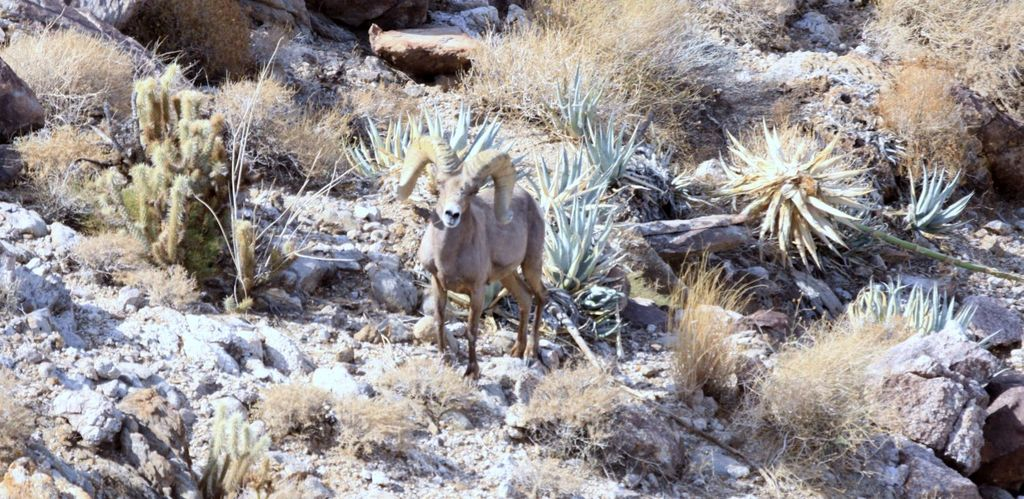Animal: (394, 126, 552, 377)
